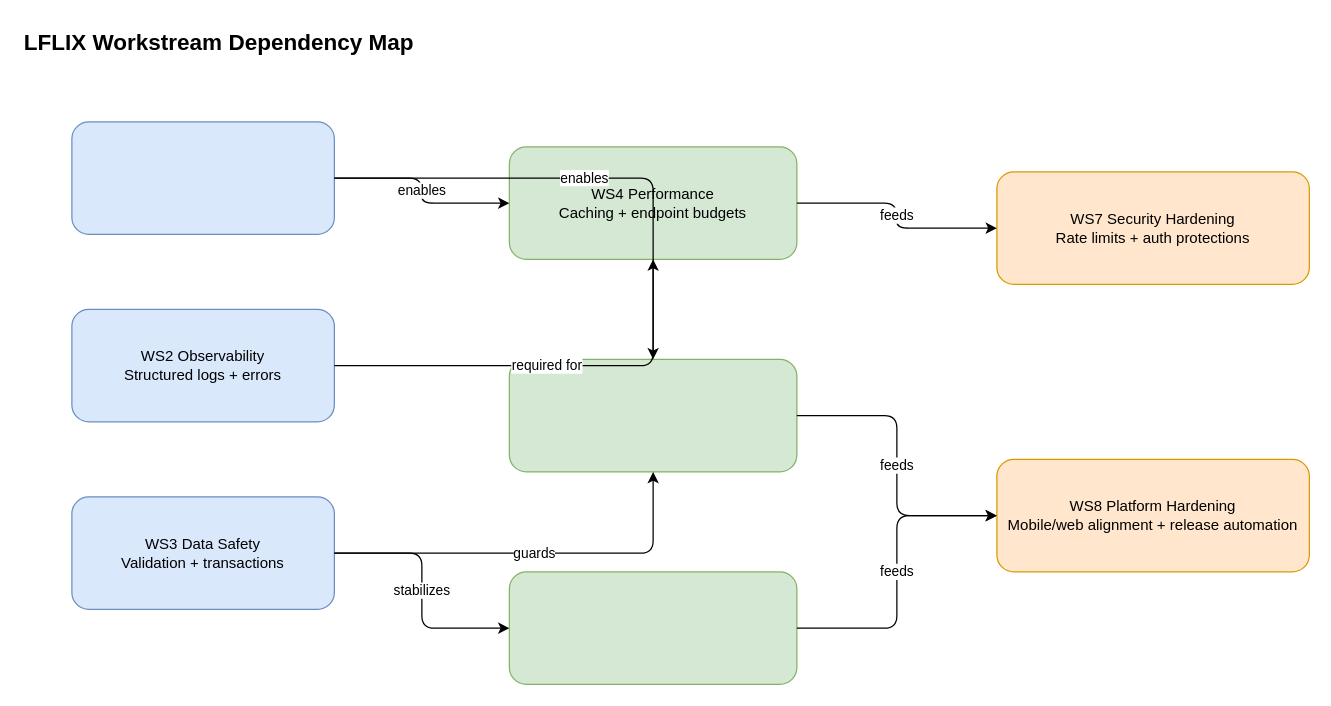
This 1331x706 diagram has some shape labels left out. The shapes that lost their labels are listed below. From the top down, each one's box as (x1, y1, x2, y2) in pixels, then its label:
(71, 121, 334, 234): WS1 Quality Tests + CI
(508, 358, 797, 472): WS5 App Architecture State store + typed API client
(508, 571, 797, 684): WS6 Reliability UX Download recovery + consistent states
